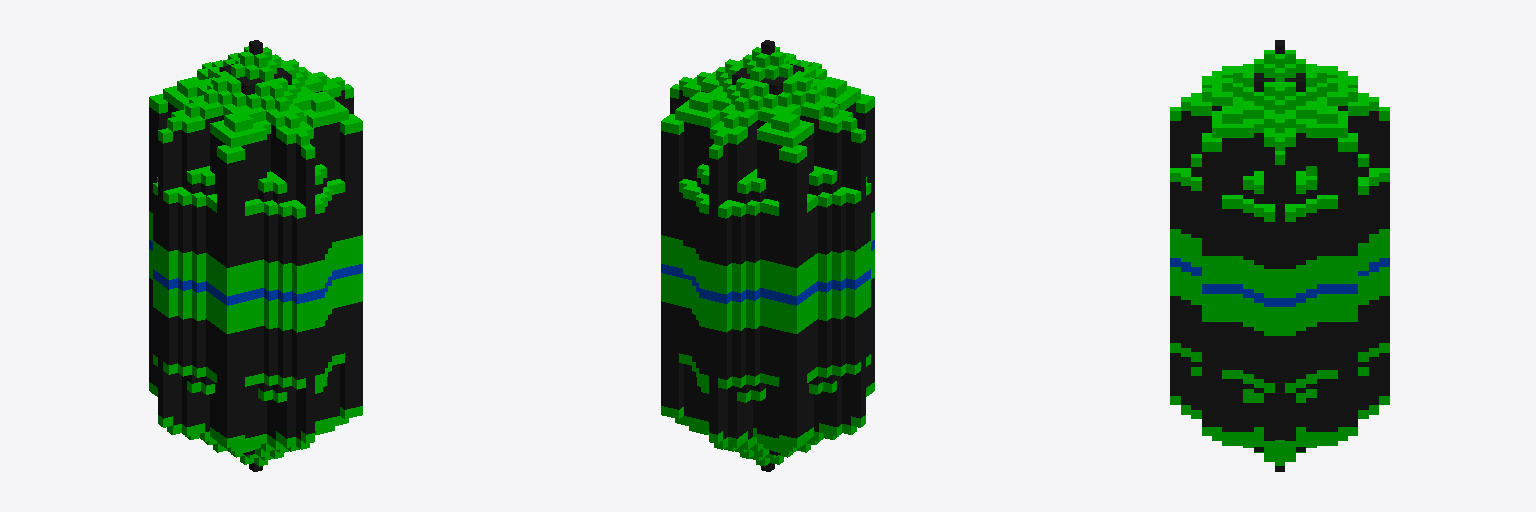
3 views of the same model, side by side, from view 1: azimuth 30°, elevation 25°; view 2: azimuth 150°, elevation 25°; view 3: azimuth 270°, elevation 25° (orthographic).
Visible parts, largest first — view 1: object 1; view 2: object 1; view 3: object 1.
Part boxes in pixels (x1,y1,x2,y2): object 1: (149, 40, 362, 471); object 1: (661, 40, 874, 471); object 1: (1170, 40, 1389, 471).
Bounding box in the file's own units: 2.1 × 4.5 × 2.1.
Materials: 1 (1 with a texture image).